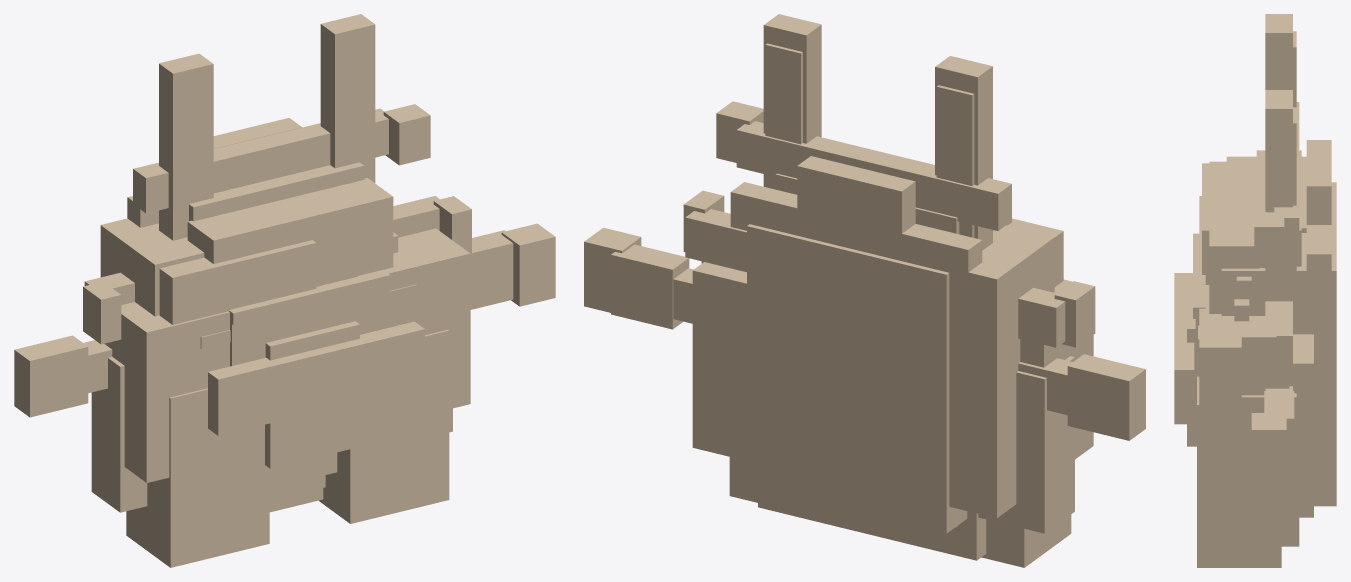
Rendered from development-product-families.gltf.
3 renders of one model, left to right at view 1: azimuth 30°, elevation 25°; view 2: azimuth 150°, elevation 25°; view 3: azimuth 270°, elevation 25°, orthographic. The views are drawn at different scales.
Visible parts, largest first — view 1: Radio_Pocket_Left, Radio_Pocket_Right, Pocket_Flaps, Upper_Panel, Pouch_Left, Pouch_Right, Shoulder_Left, Large_Flap, Shoulder_Right, Upper_Strap, Pouch_Center, Pocket_Flap (+17 smaller); view 2: Main_Pouch, Large_Pouch, Small_Pouch, Upper_Strap, Belt_Loops, Carry_Left, Belt_Loop, Buckle_End_Left, Belt_Main, Lower_Panel, Buckle_End_Right, Shoulder_Left (+13 smaller); view 3: Main_Pouch, Pouch_Right, Upper_Panel, Radio_Pocket_Right, Carry_Right, Shoulder_Right, Small_Pouch, Hardware_Buckles_Cooler, Pocket_Flaps, Belt_Loop, Shoulder_Left, Hardware_Right (+16 smaller).
Boxes of the visible parts, <box> form: Radio_Pocket_Left: <box>126,388,269,567</box>; Radio_Pocket_Right: <box>319,329,449,523</box>; Pocket_Flaps: <box>208,321,424,435</box>; Upper_Panel: <box>187,178,393,286</box>; Pouch_Left: <box>104,302,229,482</box>; Pouch_Right: <box>357,228,470,409</box>; Shoulder_Left: <box>159,53,213,240</box>; Large_Flap: <box>159,240,316,324</box>; Shoulder_Right: <box>320,14,375,182</box>; Upper_Strap: <box>133,108,388,213</box>; Pouch_Center: <box>265,321,359,468</box>; Pocket_Flap: <box>230,287,389,366</box>; Main_Pouch: <box>747,224,967,533</box>; Large_Pouch: <box>835,225,1054,518</box>; Small_Pouch: <box>692,262,746,452</box>; Upper_Strap: <box>736,121,1011,230</box>; Belt_Loops: <box>730,182,982,284</box>; Carry_Left: <box>978,356,1074,533</box>; Belt_Loop: <box>797,156,915,250</box>; Buckle_End_Left: <box>1067,354,1145,440</box>; Belt_Main: <box>685,209,1065,347</box>; Lower_Panel: <box>758,487,986,560</box>; Buckle_End_Right: <box>611,244,689,329</box>; Shoulder_Left: <box>935,56,992,250</box>; Main_Pouch: <box>1221,182,1336,506</box>; Pouch_Right: <box>1199,297,1289,492</box>; Upper_Panel: <box>1209,161,1259,313</box>; Radio_Pocket_Right: <box>1197,376,1281,567</box>; Carry_Right: <box>1241,393,1296,537</box>; Shoulder_Right: <box>1265,90,1292,301</box>; Small_Pouch: <box>1224,334,1313,517</box>; Hardware_Buckles_Cooler: <box>1251,413,1286,488</box>; Pocket_Flaps: <box>1174,273,1194,424</box>; Belt_Loop: <box>1306,140,1331,224</box>; Shoulder_Left: <box>1265,14,1292,89</box>; Hardware_Right: <box>1241,328,1276,380</box>.
Bounding box in the file's own units: 1.15 × 0.975 × 0.325.
